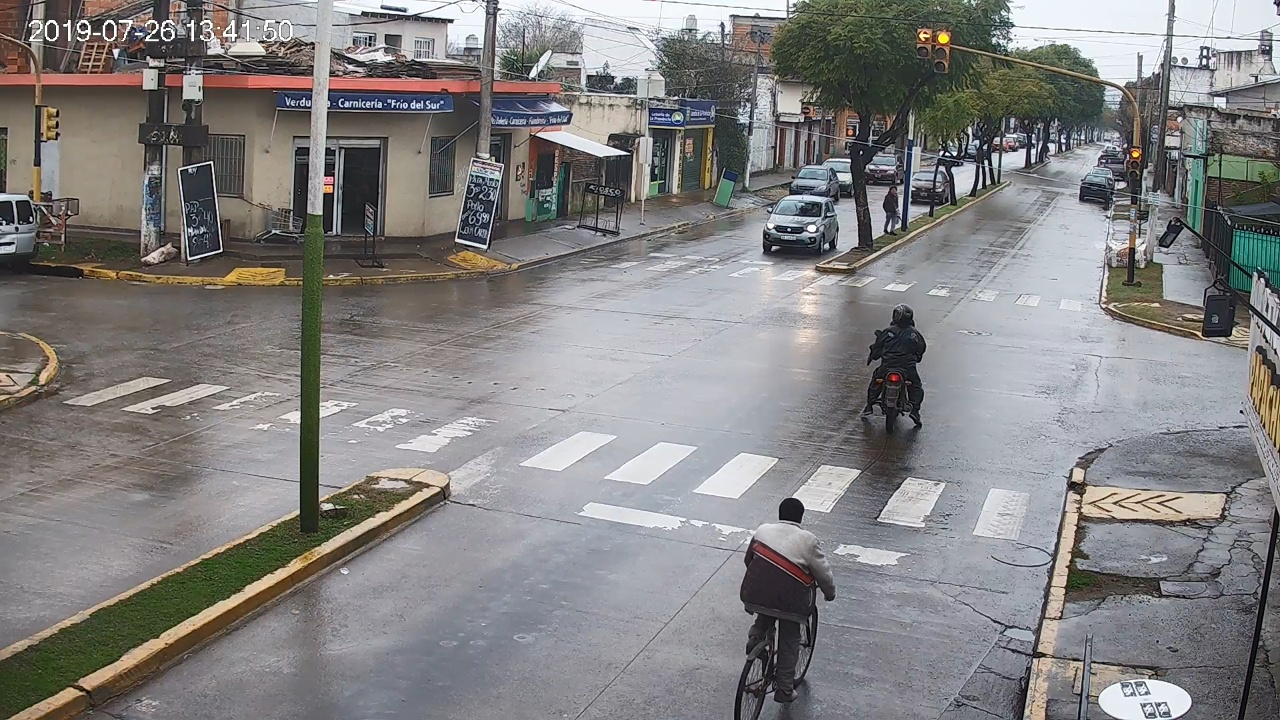bicycle: (735, 498, 838, 720)
front car: (763, 195, 839, 255)
motorcycle: (862, 327, 926, 431)
traffic light: (935, 31, 949, 73), (1129, 146, 1140, 180)
